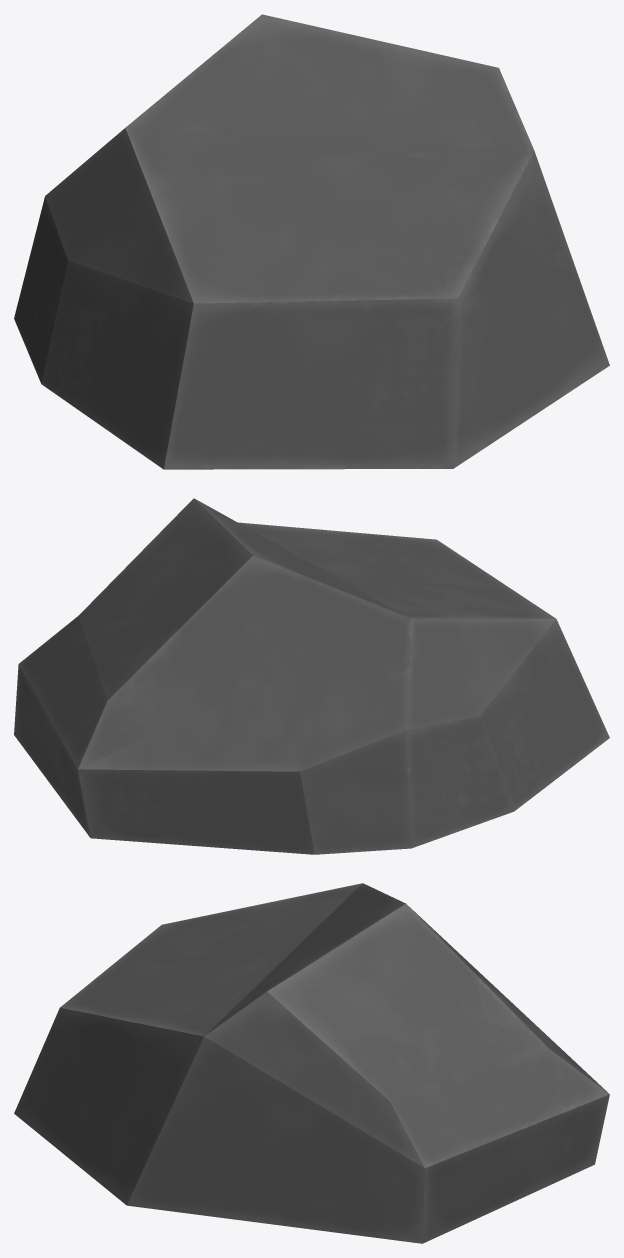
File: rock.glb
3 renders of one model, top to bottom at view 1: azimuth 30°, elevation 25°; view 2: azimuth 150°, elevation 25°; view 3: azimuth 270°, elevation 25°, orthographic. The views are drawn at different scales.
Visible parts, largest first — view 1: Object_9; view 2: Object_9; view 3: Object_9.
Part boxes in pixels (left/top/right/bottom): Object_9: left=14, top=14, right=609, bottom=469; Object_9: left=14, top=498, right=609, bottom=854; Object_9: left=14, top=883, right=609, bottom=1243.
Bounding box in the file's own units: 1.78 × 0.8616 × 2.04.
Materials: 1 (1 with a texture image).
